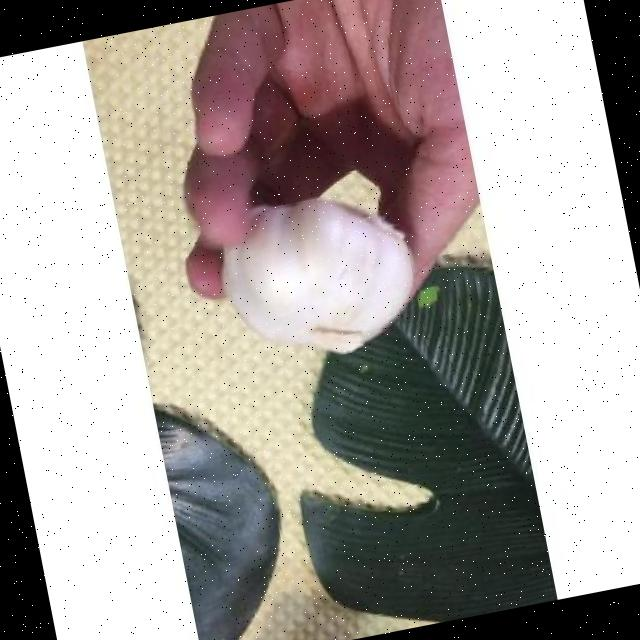garlic: (222, 199, 413, 353)
